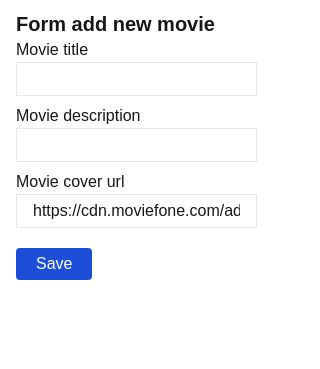
Test: MoviePage › displays validation messages for invalid form fields
Replace the text in the field labelled "Movie cover url" with "invalid-url" at (136, 211), box [16, 194, 257, 228]
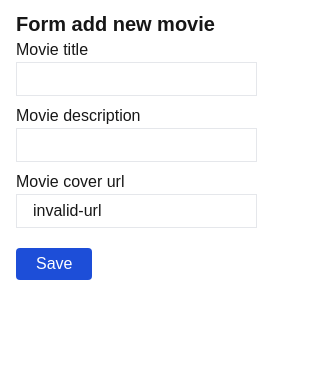
Click the button "Save" at (54, 264), box [16, 248, 92, 280]
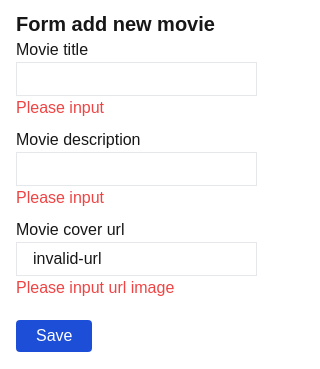
Result: the text "Please input url image" is shown at [16, 279, 174, 296]
